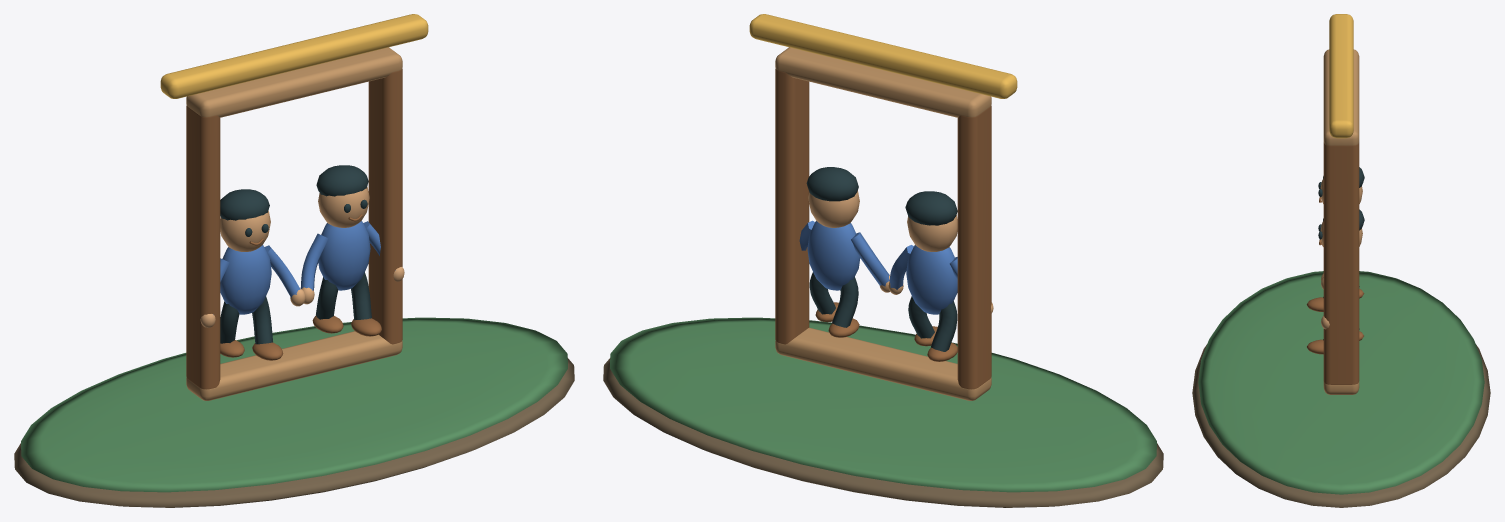
The model's file is two-travelers.glb.
3 renders of one model, left to right at view 1: azimuth 30°, elevation 25°; view 2: azimuth 150°, elevation 25°; view 3: azimuth 270°, elevation 25°, orthographic. The views are drawn at different scales.
Visible parts, largest first — view 1: two-travelers_surface_01, two-travelers_surface_03, two-travelers_surface_04, two-travelers_surface_00, two-travelers_surface_02, two-travelers_surface_07, two-travelers_surface_06, two-travelers_surface_05; view 2: two-travelers_surface_01, two-travelers_surface_03, two-travelers_surface_04, two-travelers_surface_00, two-travelers_surface_02, two-travelers_surface_07, two-travelers_surface_06, two-travelers_surface_05; view 3: two-travelers_surface_01, two-travelers_surface_03, two-travelers_surface_00, two-travelers_surface_02, two-travelers_surface_04, two-travelers_surface_05.
Part boxes in pixels (bbox=[...]): two-travelers_surface_01: bbox=[21, 317, 567, 492]; two-travelers_surface_03: bbox=[186, 68, 402, 389]; two-travelers_surface_04: bbox=[186, 47, 402, 400]; two-travelers_surface_00: bbox=[14, 358, 574, 507]; two-travelers_surface_02: bbox=[160, 14, 428, 98]; two-travelers_surface_07: bbox=[213, 221, 395, 314]; two-travelers_surface_06: bbox=[220, 165, 371, 344]; two-travelers_surface_05: bbox=[200, 187, 404, 327]; two-travelers_surface_01: bbox=[610, 317, 1156, 492]; two-travelers_surface_03: bbox=[775, 68, 991, 389]; two-travelers_surface_04: bbox=[775, 47, 991, 400]; two-travelers_surface_00: bbox=[603, 358, 1163, 507]; two-travelers_surface_02: bbox=[749, 14, 1017, 98]; two-travelers_surface_07: bbox=[799, 220, 957, 314]; two-travelers_surface_06: bbox=[806, 167, 957, 351]; two-travelers_surface_05: bbox=[808, 190, 993, 313]; two-travelers_surface_01: bbox=[1198, 271, 1484, 494]; two-travelers_surface_03: bbox=[1306, 142, 1364, 384]; two-travelers_surface_00: bbox=[1192, 344, 1490, 507]; two-travelers_surface_02: bbox=[1329, 14, 1353, 138]; two-travelers_surface_04: bbox=[1323, 49, 1359, 394]; two-travelers_surface_05: bbox=[1320, 179, 1362, 329].
Bounding box in the file's own units: 4.56 × 3.14 × 2.5.
